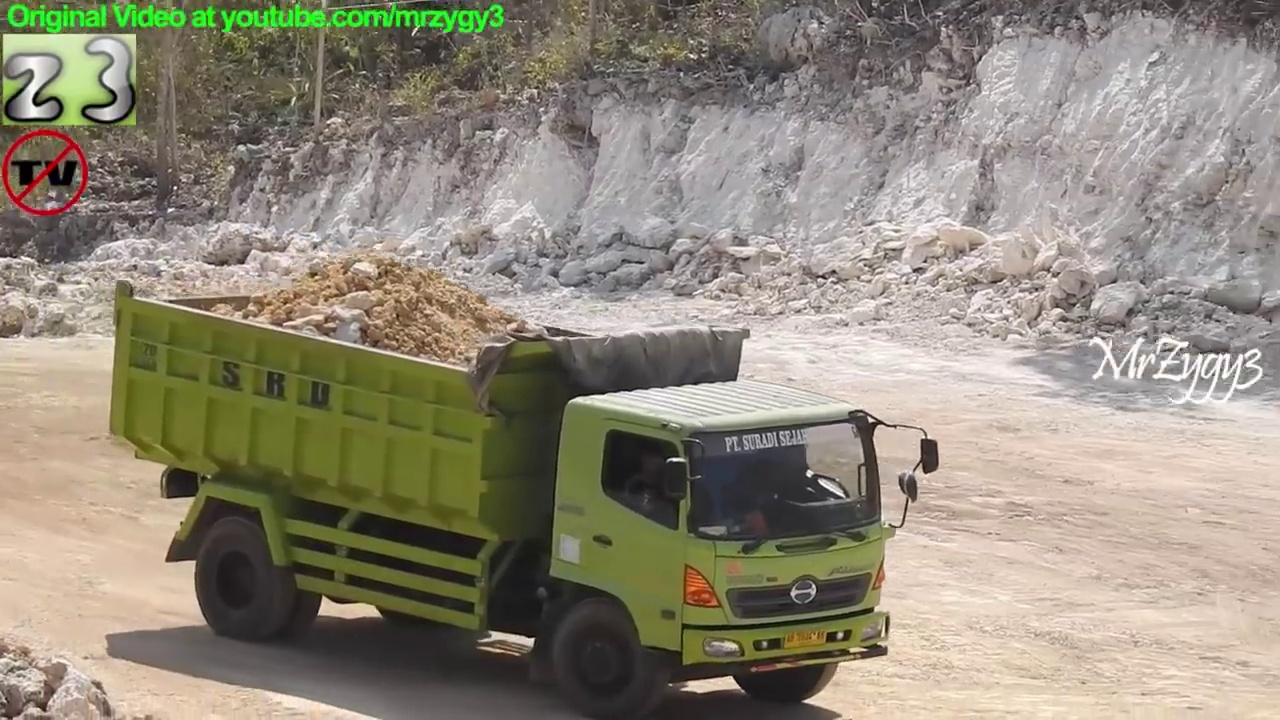truck: (106, 274, 943, 720)
